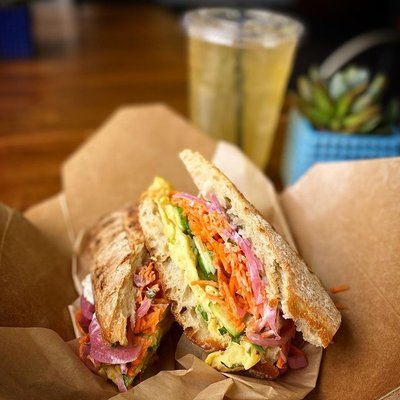pizza: (179, 6, 304, 181)
soup: (73, 154, 346, 390)
